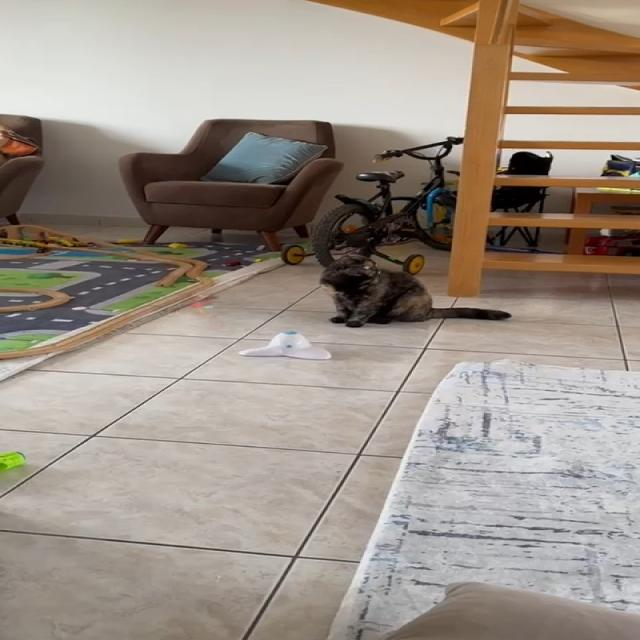authorized: (317, 252, 511, 328)
